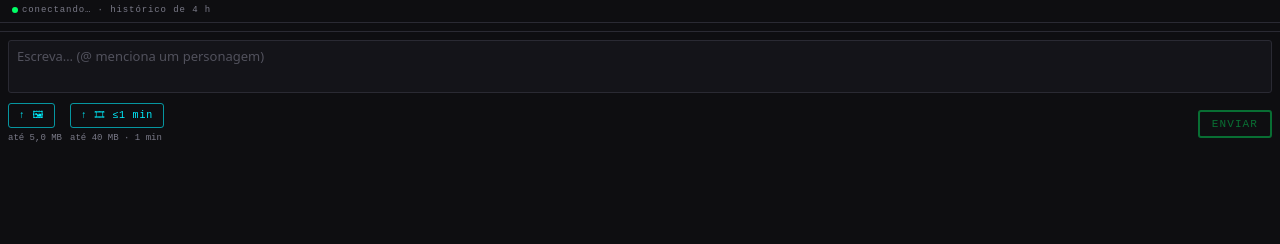
SalaChat — escrever › erro do servidor (ex.: limite de mensagens) aparece e o texto fica
The image size is (1280, 244).
Type "oi" into the text box named "Escrever mensagem" at (640, 66), box x1=8 y1=40 x2=1272 y2=92
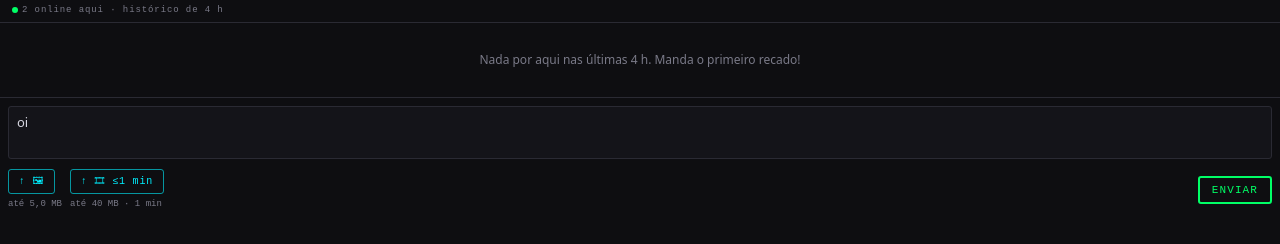
Click the button "ENVIAR" at (1235, 190), box x1=1198 y1=176 x2=1272 y2=204
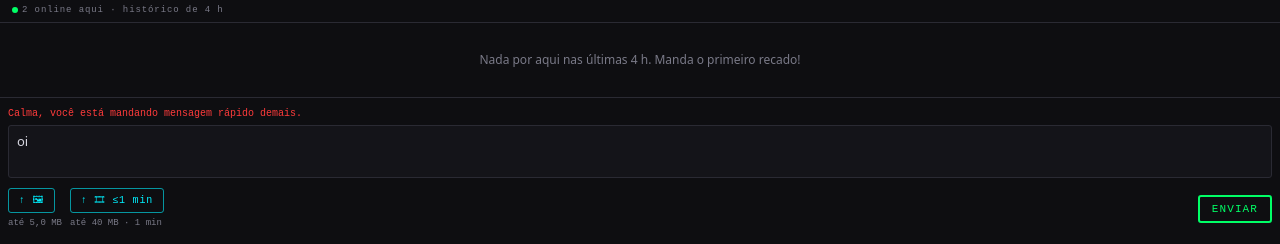
Expected: the text "Calma, você está mandando mensagem rápido demais." is shown, x1=8 y1=108 x2=302 y2=118
